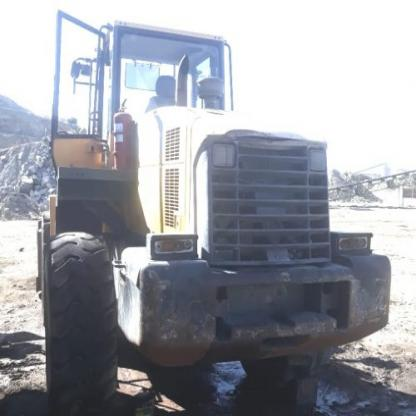bull_dozer/loader/grader: (22, 11, 411, 407)
